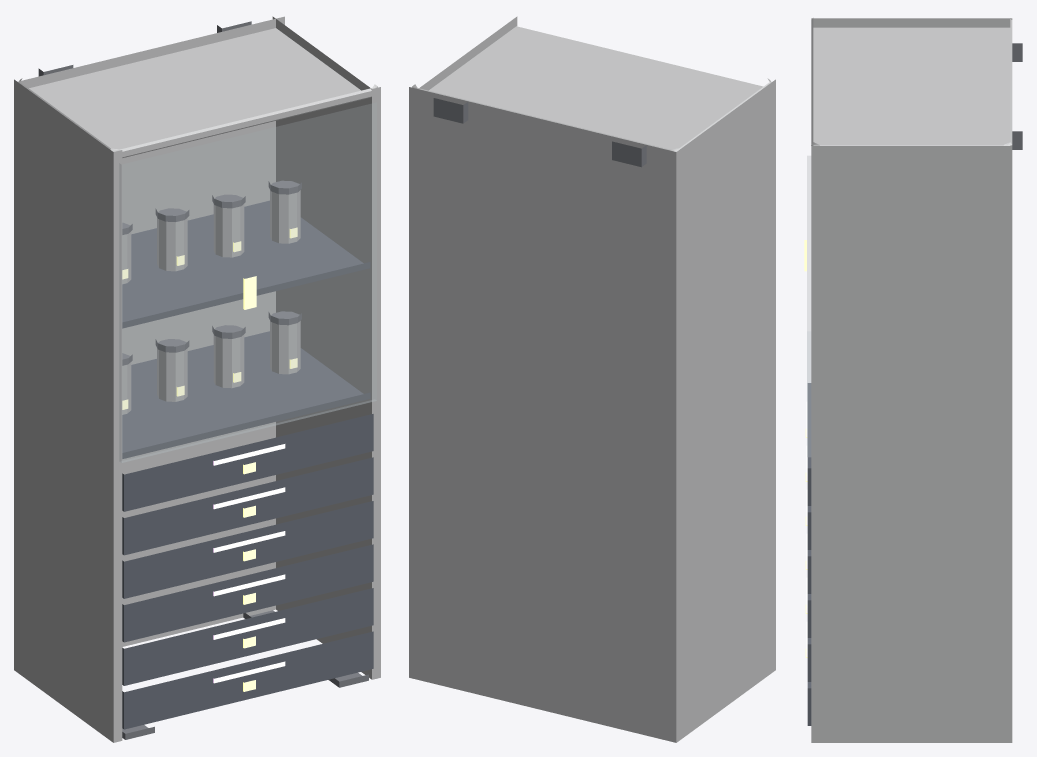
File: iter_03.glb
The picture shows the model from 3 angles, left to right: view 1: azimuth 30°, elevation 25°; view 2: azimuth 150°, elevation 25°; view 3: azimuth 270°, elevation 25°; orthographic projection.
Visible parts, largest first — view 1: Carcass_Sides, Glass_Doors, Drawer_Fronts, Shelves, Carcass_Back, Carcass_Top, Jars, Jar_Caps, Drawer_Labels, Floor_Clamps, Drawer_Latches, Jar_Clips; view 2: Carcass_Back, Carcass_Sides, Carcass_Top, Rail_Hooks; view 3: Carcass_Sides, Carcass_Top, Carcass_Back, Drawer_Fronts, Glass_Doors, Drawer_Labels, Rail_Hooks.
Boxes of the visible parts, x1,y1,x2,y2 form: Carcass_Sides: (14,16,380,742); Glass_Doors: (119,102,376,462); Drawer_Fronts: (122,414,373,729); Shelves: (122,200,370,458); Carcass_Back: (14,16,284,669); Carcass_Top: (17,28,377,157); Jars: (122,190,300,414); Jar_Caps: (122,180,301,365); Drawer_Labels: (213,444,285,683); Floor_Clamps: (122,610,368,739); Drawer_Latches: (243,462,255,691); Jar_Clips: (122,227,297,409); Carcass_Back: (409,88,679,740); Carcass_Sides: (409,16,775,742); Carcass_Top: (412,26,772,156); Rail_Hooks: (433,98,646,167); Carcass_Sides: (811,18,1012,742); Carcass_Top: (811,18,1012,153); Carcass_Back: (1005,146,1012,742); Drawer_Fronts: (807,383,811,725); Glass_Doors: (807,156,810,456); Drawer_Labels: (806,401,807,656); Rail_Hooks: (1012,43,1022,149).
Bounding box in the file's own units: 0.9 × 1.9 × 0.63.
